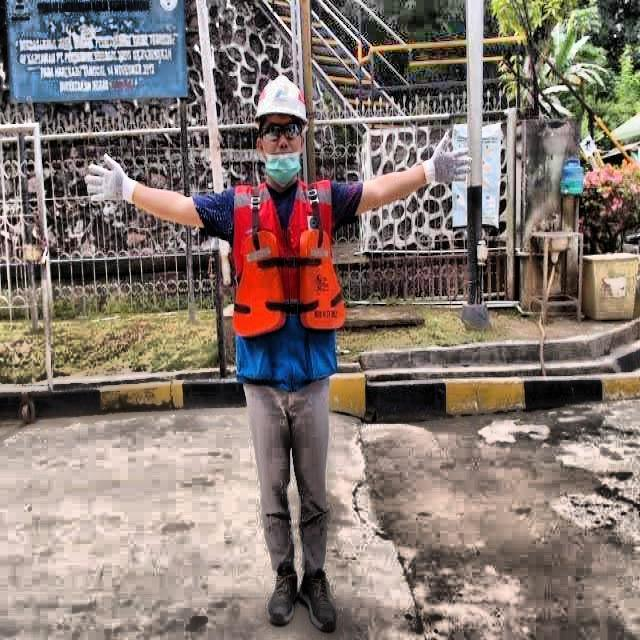safety_helmet: (253, 67, 315, 139)
safety_jacket: (227, 176, 357, 347)
